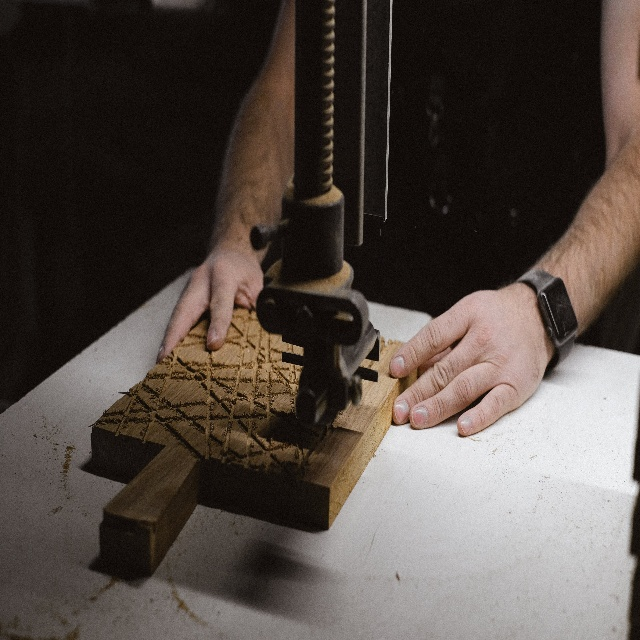Sin_guantes: (389, 278, 557, 439), (156, 240, 264, 362)
